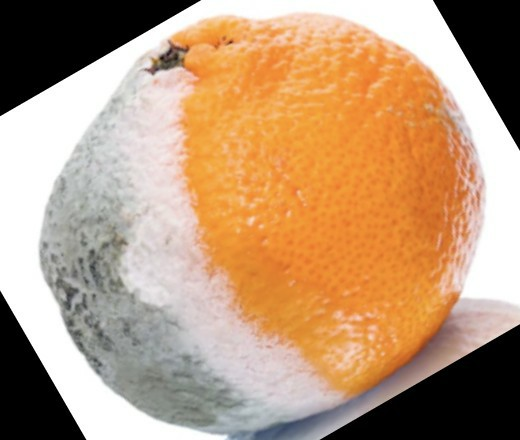rotten_orange: (43, 18, 481, 429)
